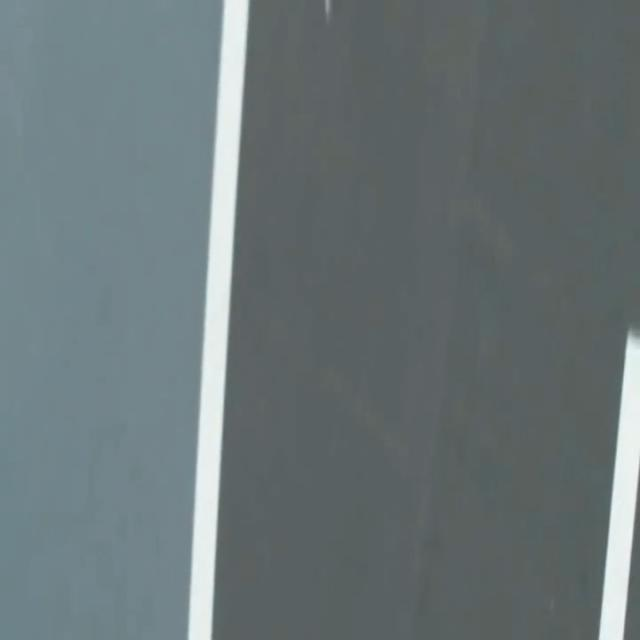center: (598, 332, 639, 639)
left: (188, 0, 249, 639)
